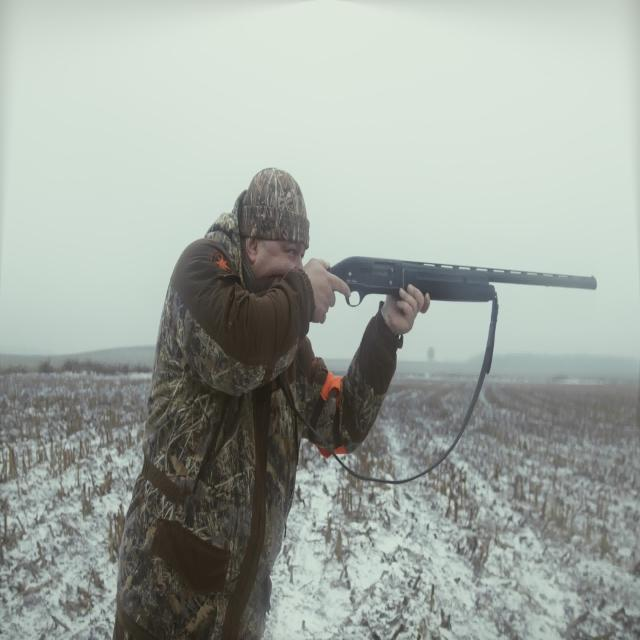Hunter: (91, 156, 315, 640)
Rifle: (334, 214, 534, 322)
